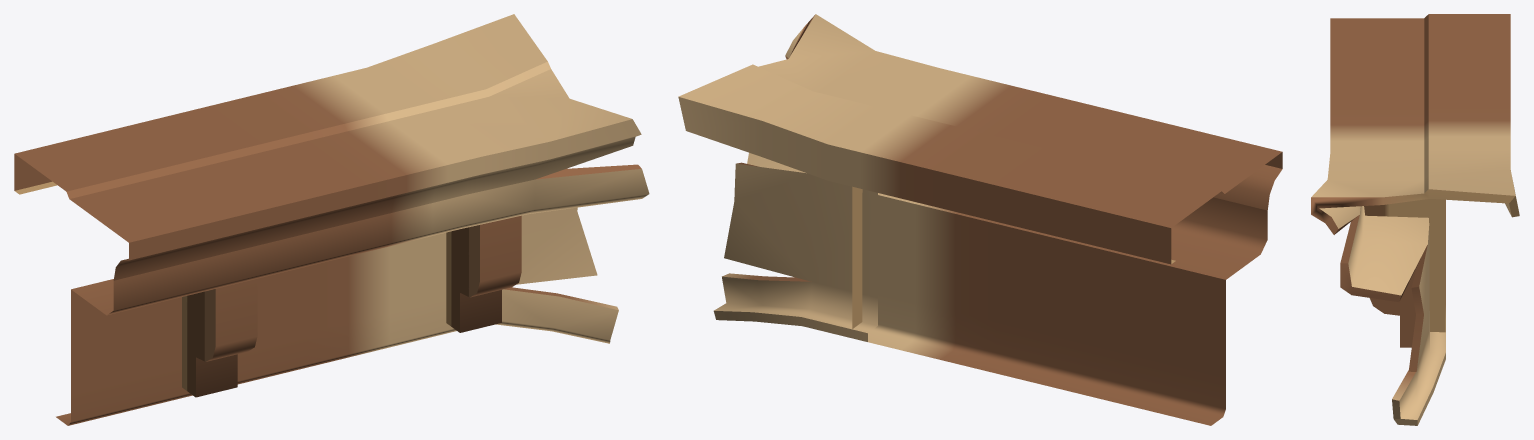
The model's file is DBK_Cornice_B_End.fbx.
3 renders of one model, left to right at view 1: azimuth 30°, elevation 25°; view 2: azimuth 150°, elevation 25°; view 3: azimuth 270°, elevation 25°, orthographic. The views are drawn at different scales.
Parts seen in each view (by area): view 1: DBK_Cornice_B_End; view 2: DBK_Cornice_B_End; view 3: DBK_Cornice_B_End.
Boxes of the visible parts, <box> form: DBK_Cornice_B_End: <box>14,14,649,425</box>; DBK_Cornice_B_End: <box>678,14,1282,425</box>; DBK_Cornice_B_End: <box>1311,14,1519,425</box>.
Size of the model in its own units: 151 by 76.11 by 65.12.
